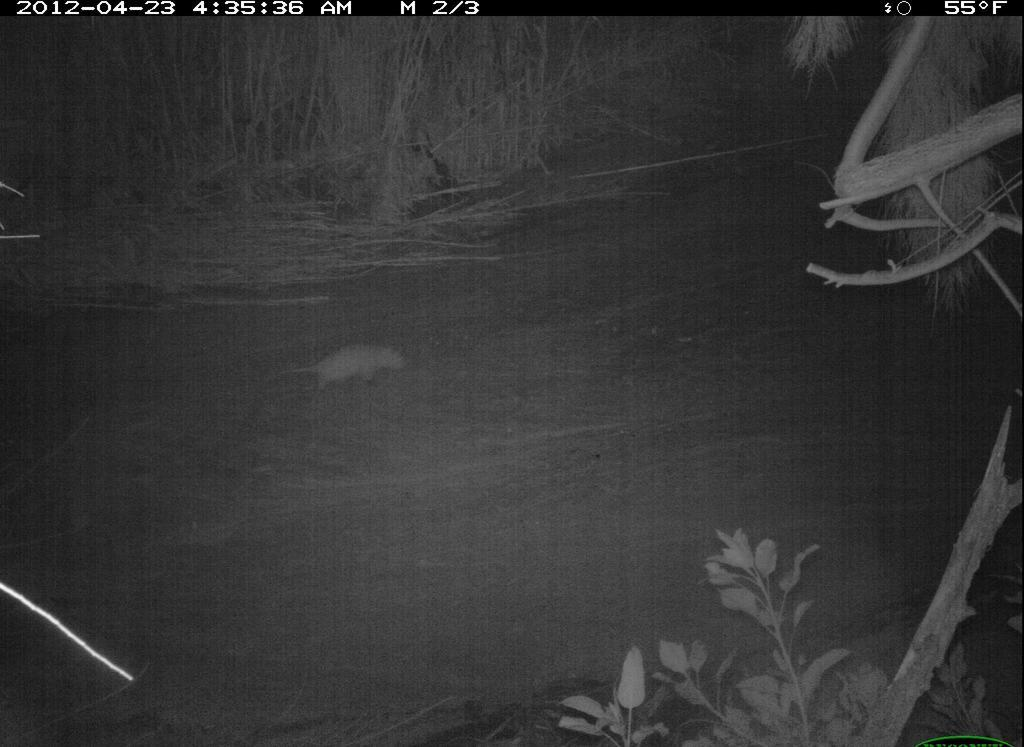opossum: (265, 342, 408, 401)
